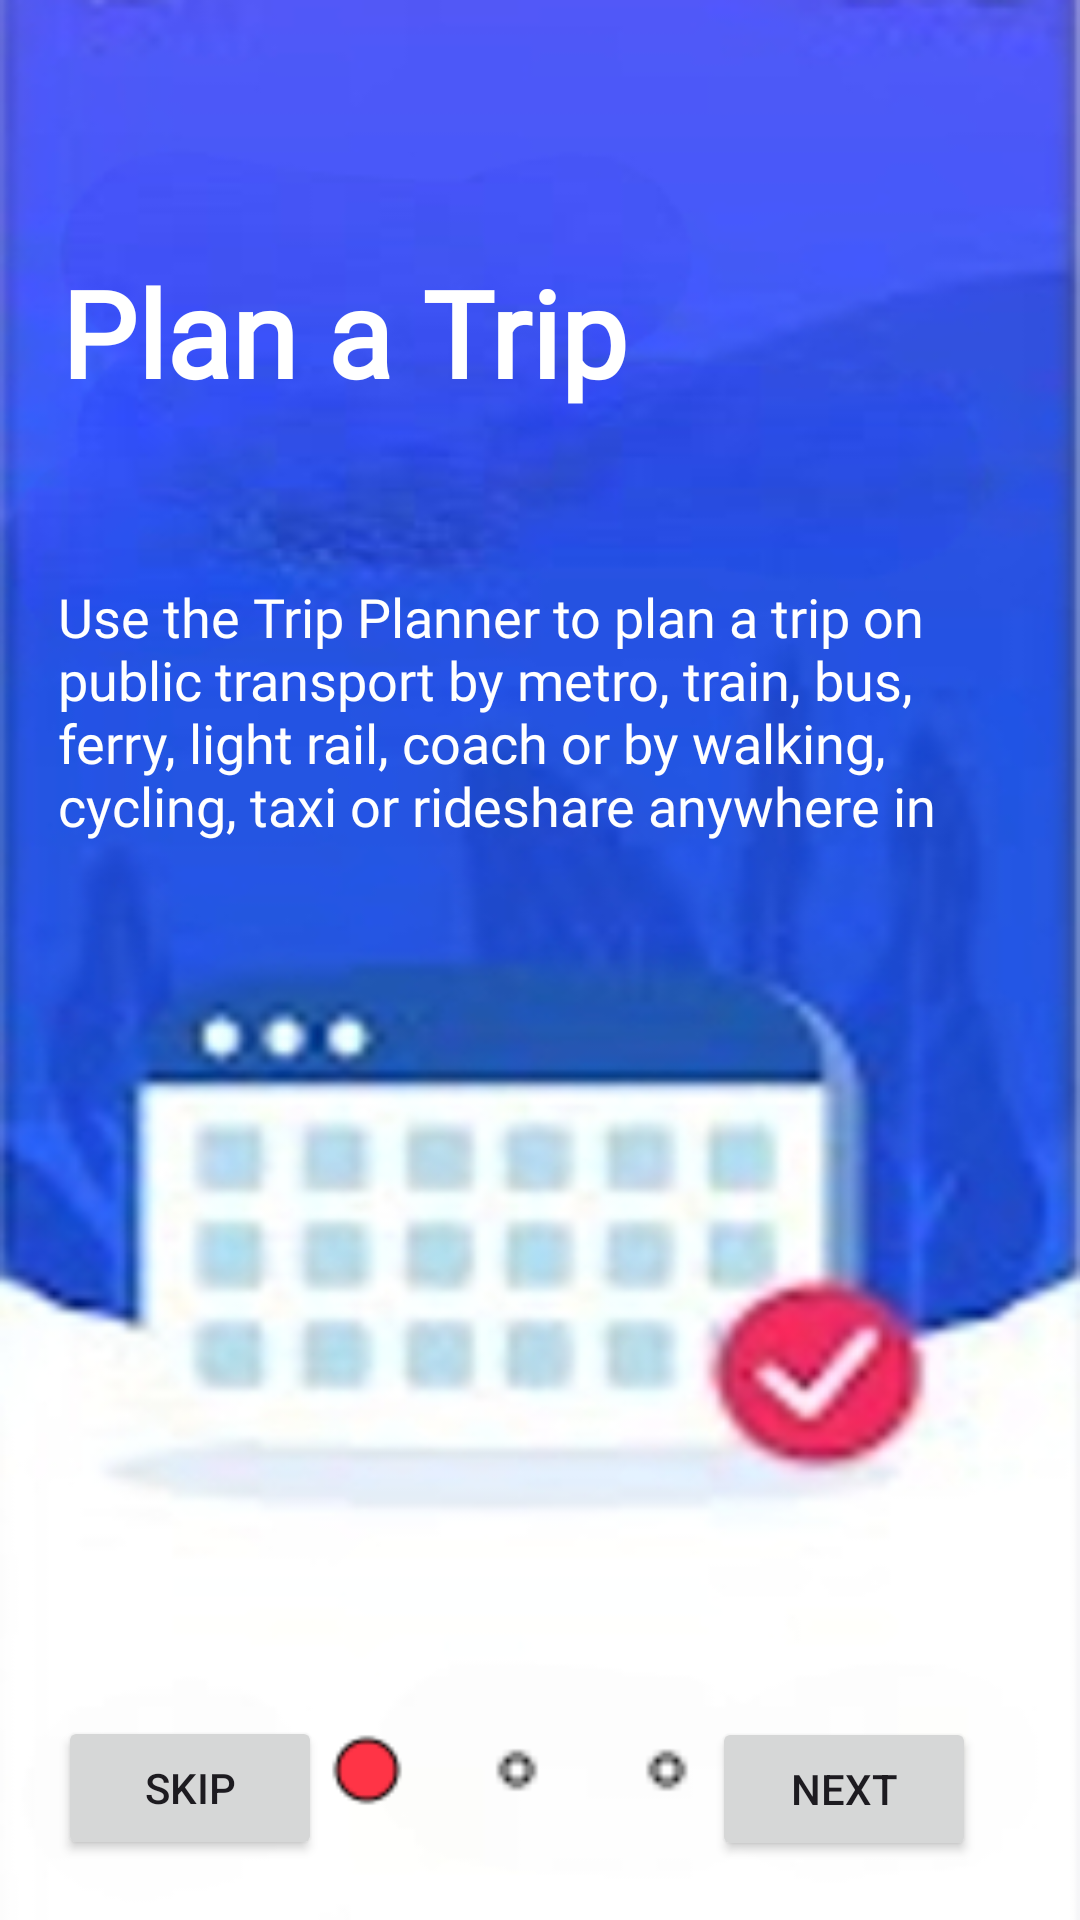

Locate icon controls on the screen. Image size 1080px x 1920px, boxes as {"x1": x1, "y1": y1, "x2": x2, "y2": y2}.
recordbutton: {"x1": 332, "y1": 1735, "x2": 402, "y2": 1805}
